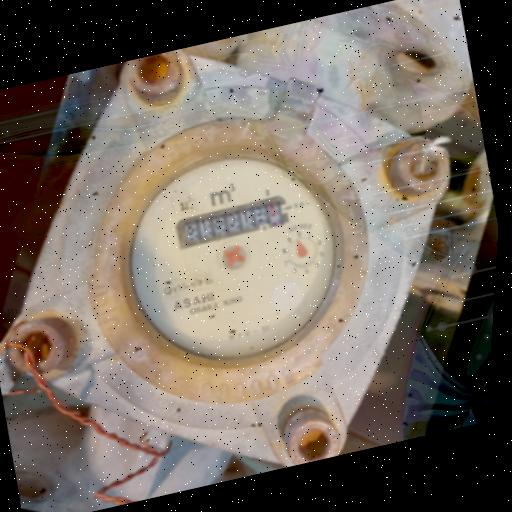0: (225, 210, 240, 232)
1: (197, 217, 213, 239), (239, 206, 254, 228)
5: (253, 203, 268, 225)
8: (266, 201, 282, 227), (183, 220, 200, 242), (212, 214, 226, 236)
border_water_meter_number: (173, 193, 293, 250)
